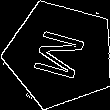M_E: (28, 25, 92, 84)
